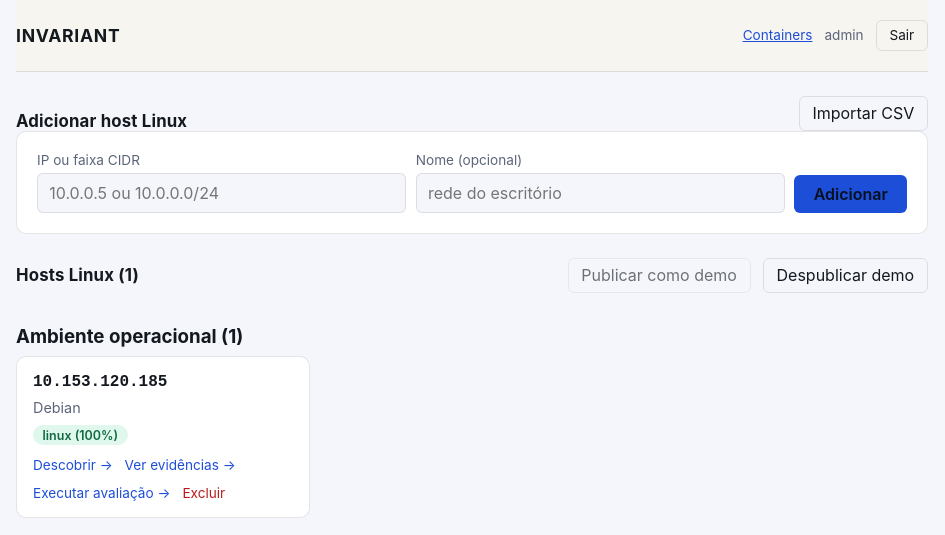
Endpoints -- evidência real de falha de discovery › não mostra o resumo de falha quando existe porta aberta
Expected: the button "Importar CSV" is shown, [799, 96, 928, 131]
Click the button "Ver evidências →": (180, 465) [125, 457, 236, 473]
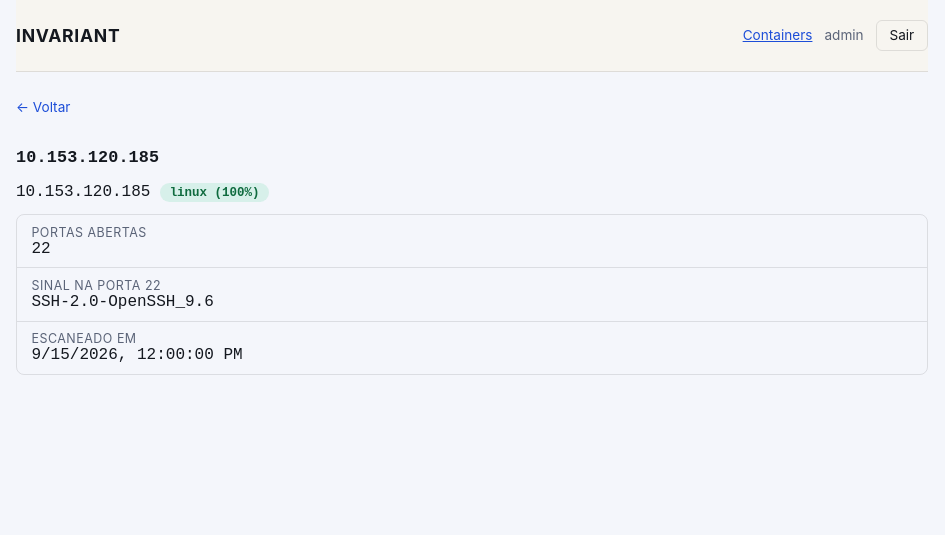
Now the text "22" is shown, box [31, 240, 51, 258]
